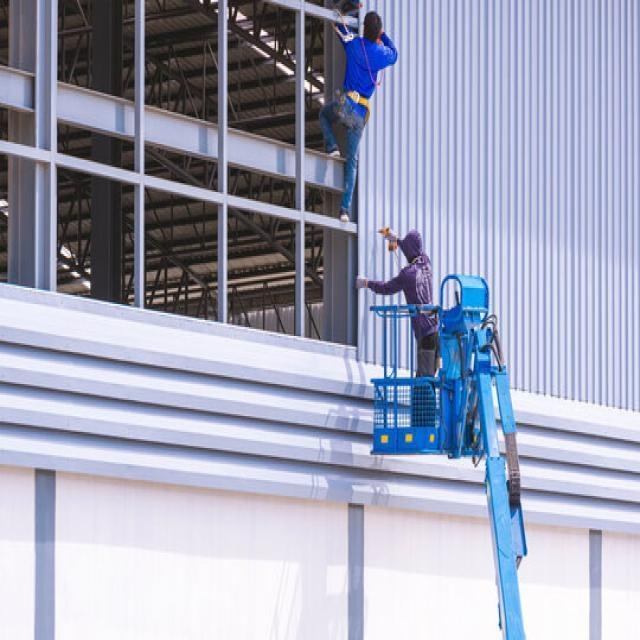Arnes_seguridad: (343, 91, 371, 124)
